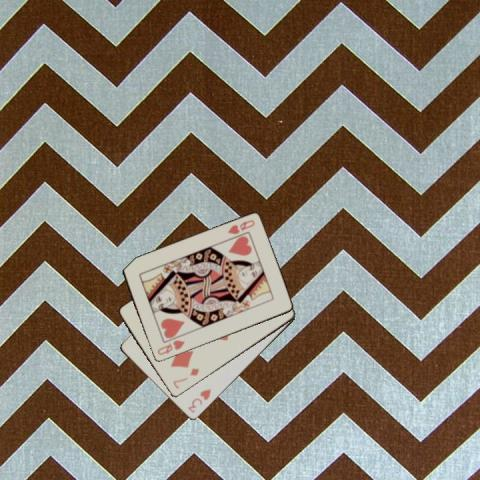3h: (184, 386, 212, 415)
7d: (170, 365, 201, 390)
Qh: (154, 337, 186, 357), (225, 217, 256, 236)
